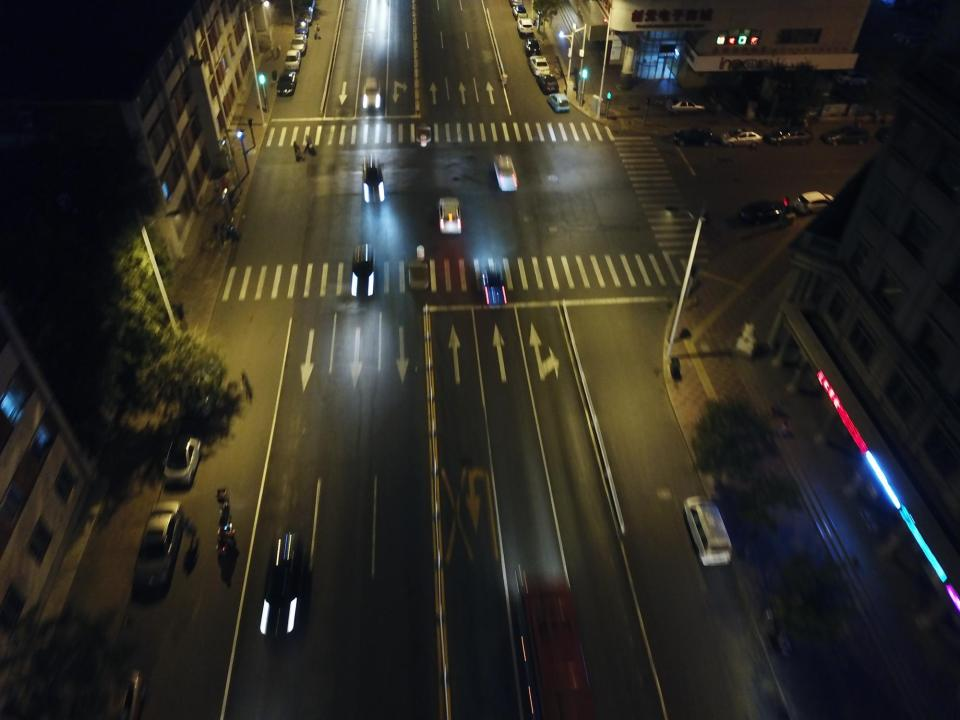bus: (519, 576, 598, 720)
car: (259, 538, 308, 633), (134, 500, 183, 584), (86, 666, 145, 720), (180, 361, 222, 418), (352, 245, 376, 296), (739, 201, 787, 226), (481, 266, 506, 308), (362, 158, 386, 201), (877, 124, 927, 144), (436, 197, 462, 234), (767, 126, 813, 146), (494, 154, 518, 190), (823, 126, 868, 145), (720, 128, 762, 146), (666, 98, 705, 116), (276, 71, 297, 96), (548, 92, 570, 112), (530, 55, 548, 77), (284, 49, 301, 71), (539, 74, 558, 93), (289, 34, 307, 54), (524, 38, 542, 56), (293, 21, 309, 36), (298, 8, 313, 23), (512, 5, 528, 19)
van: (684, 496, 732, 567), (162, 436, 202, 487), (794, 190, 837, 216), (673, 127, 714, 147), (362, 77, 380, 109), (518, 18, 535, 35)
